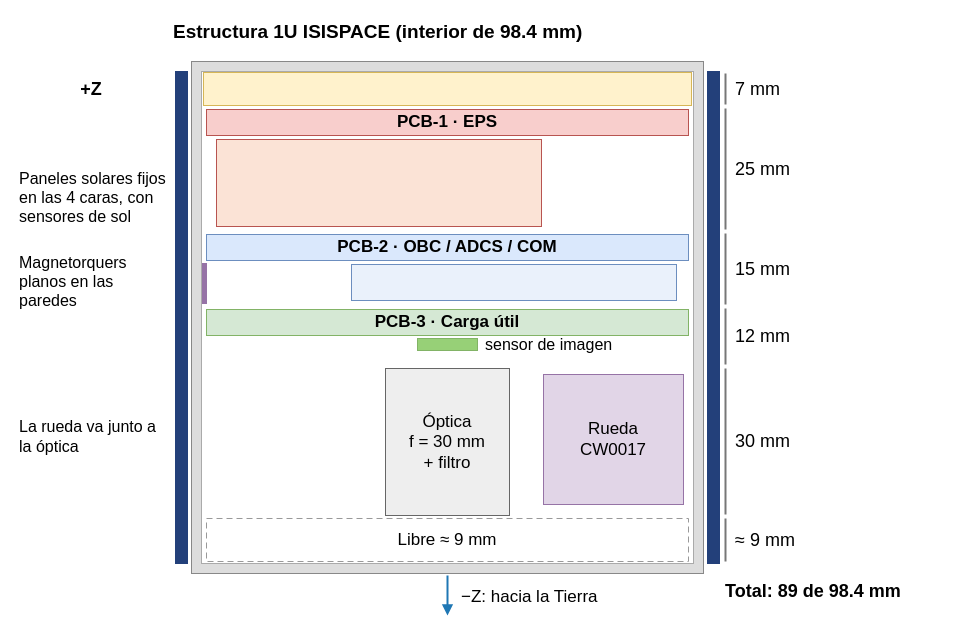
The diagram is 980 pixels wide and 641 high, and some of its shapes have lost their labels. The shapes that lost their labels are listed below. From the top down, each one's box as (x1, y1, x2, y2) in pixels, then its label:
(202, 72, 692, 106): Antena UHF ISISPACE (guardada)
(216, 138, 542, 226): 2 celdas 18650 (2S)
(350, 264, 676, 300): Transceptor UHF (hija)
